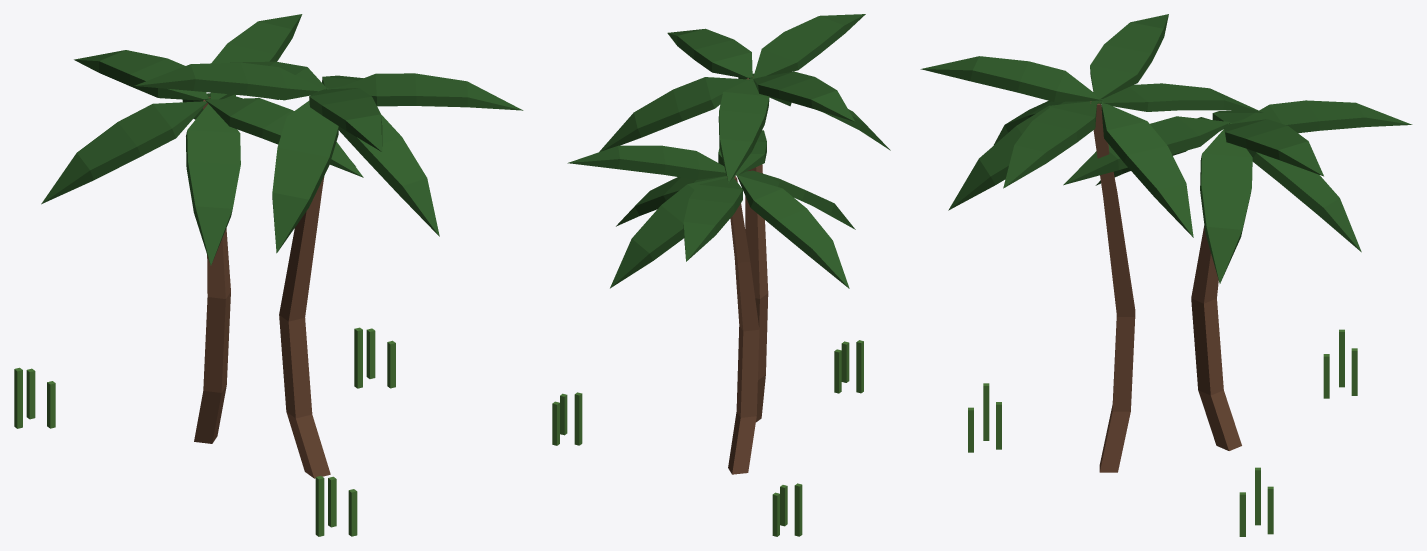
Rendered from tree2.glb.
3 renders of one model, left to right at view 1: azimuth 30°, elevation 25°; view 2: azimuth 150°, elevation 25°; view 3: azimuth 270°, elevation 25°, orthographic. The views are drawn at different scales.
Parts seen in each view (by area): view 1: Cube.033; view 2: Cube.033; view 3: Cube.033.
Boxes of the visible parts, x1,y1,x2,y2 form: Cube.033: (14, 14, 523, 536); Cube.033: (552, 14, 890, 536); Cube.033: (920, 14, 1412, 536).
Size of the model in its own units: 6.29 by 7.17 by 8.11.
